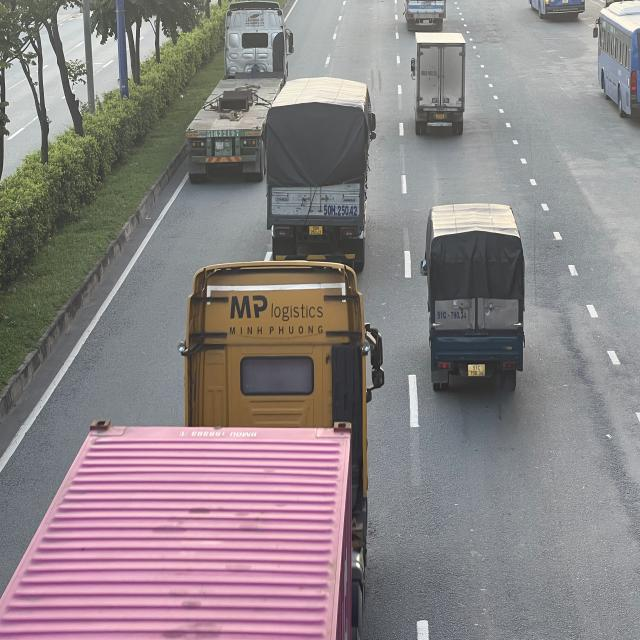coach: (592, 3, 638, 123)
container: (0, 260, 385, 639), (189, 2, 292, 181)
truck: (264, 73, 374, 264), (422, 203, 528, 395), (410, 34, 466, 138), (405, 0, 449, 30)
